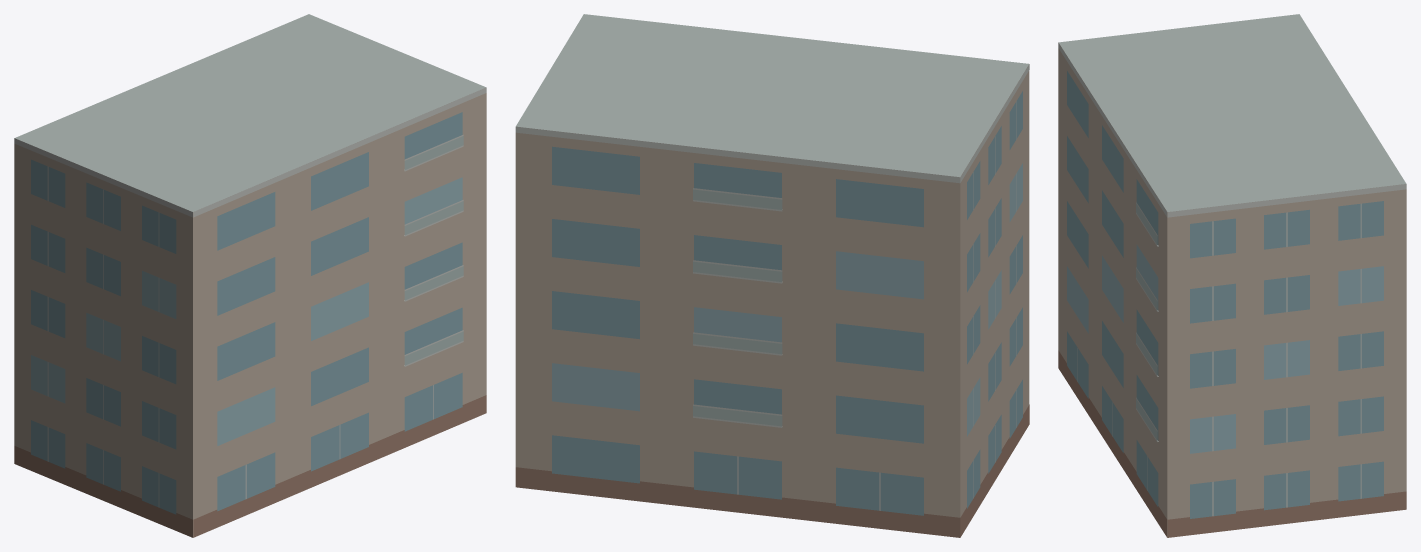
Rendered from survey-upis-32720945.glb.
3 renders of one model, left to right at view 1: azimuth 30°, elevation 25°; view 2: azimuth 150°, elevation 25°; view 3: azimuth 270°, elevation 25°, orthographic. The views are drawn at different scales.
Visible parts, largest first — view 1: survey-upis-32720945.tmp; view 2: survey-upis-32720945.tmp; view 3: survey-upis-32720945.tmp.
Boxes of the visible parts, box(x1,y1,x2,y2) form: survey-upis-32720945.tmp: box(14, 14, 486, 537); survey-upis-32720945.tmp: box(515, 14, 1029, 537); survey-upis-32720945.tmp: box(1058, 14, 1406, 537).
Size of the model in its own units: 18.92 by 14.5 by 14.05.
